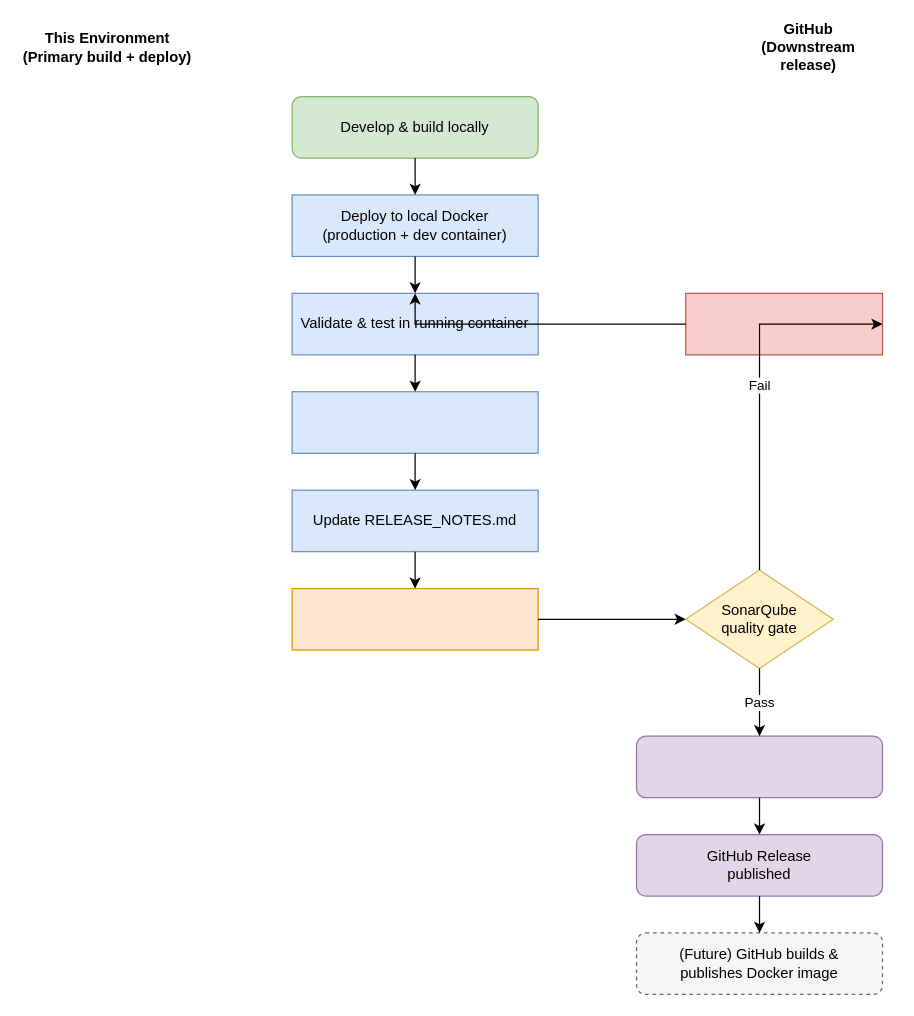
The diagram is 914 pixels wide and 1016 high, and some of its shapes have lost their labels. Here are the shapes that lost their labels. From the top down, the centre of each, then its label:
At (x=783, y=323): "Fix locally & redeploy".
At (x=414, y=422): "Bump version (match deployed state)".
At (x=414, y=618): "Push to GitHub main".
At (x=759, y=766): "Auto-create tag vX.Y.Z-alpha".
